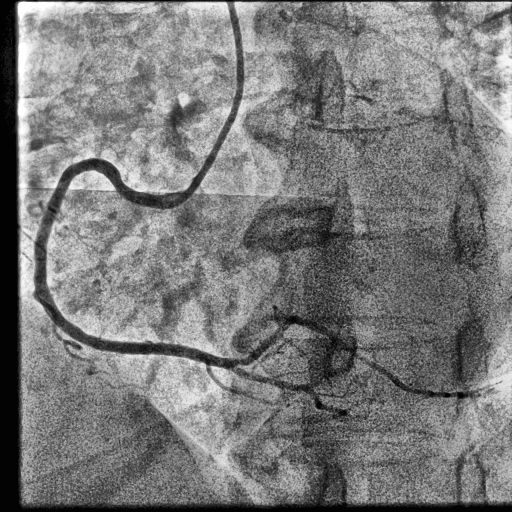pborca: (235, 316, 467, 399)
pda: (233, 368, 346, 416)
rca: (34, 159, 237, 372)
